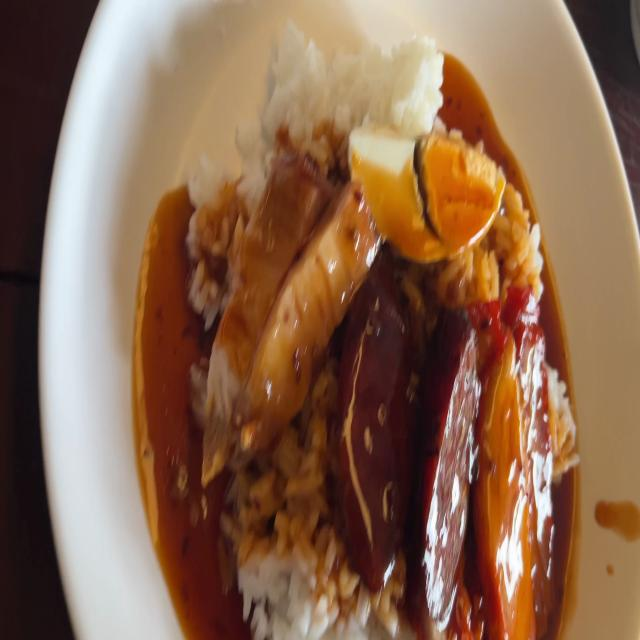red_pork_and_crispy_pork: (352, 125, 501, 261)
stir_fried_basil: (348, 289, 473, 585)
